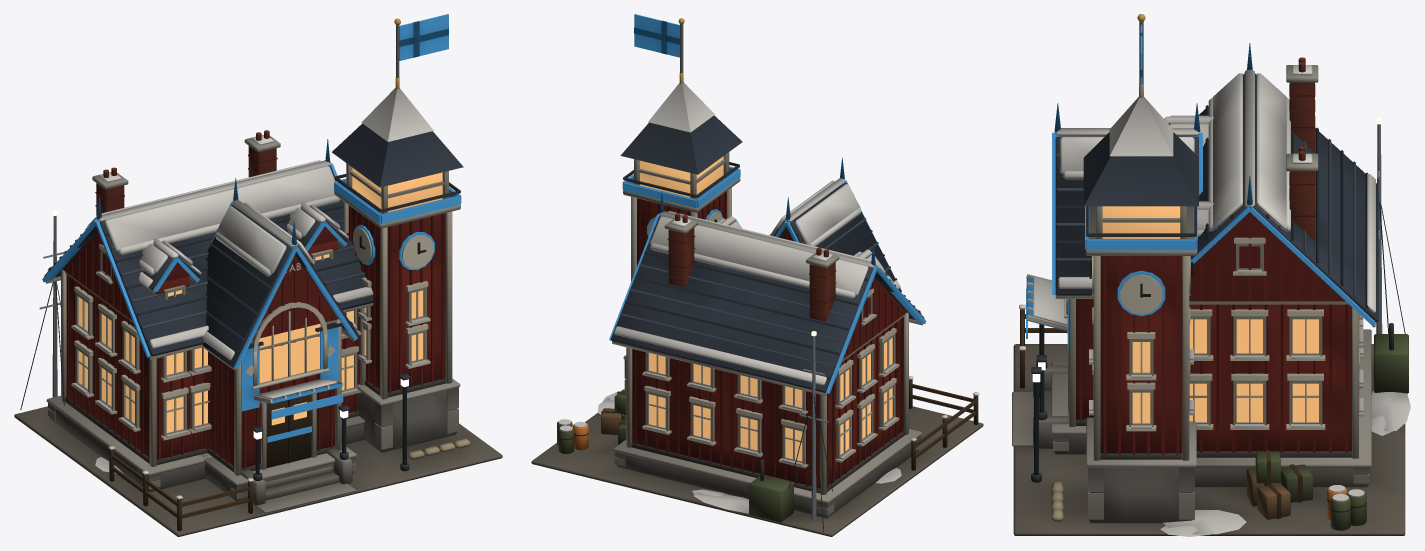
3 renders of one model, left to right at view 1: azimuth 30°, elevation 25°; view 2: azimuth 150°, elevation 25°; view 3: azimuth 270°, elevation 25°, orthographic. The views are drawn at different scales.
Parts seen in each view (by area): view 1: hq_root_matte, hq_root_trim, hq_root_glass, hq_root_metal, flag; view 2: hq_root_matte, hq_root_glass, hq_root_trim, hq_root_metal, flag; view 3: hq_root_matte, hq_root_glass, hq_root_trim, hq_root_metal.
Part boxes in pixels (x1,y1,x2,y2): hq_root_matte: [14, 88, 502, 536]; hq_root_trim: [42, 139, 461, 442]; hq_root_glass: [78, 167, 442, 432]; hq_root_metal: [20, 18, 460, 480]; flag: [399, 14, 448, 60]; hq_root_matte: [531, 82, 983, 536]; hq_root_glass: [640, 156, 892, 461]; hq_root_trim: [609, 157, 926, 393]; hq_root_metal: [623, 18, 832, 531]; flag: [634, 14, 679, 57]; hq_root_matte: [1012, 57, 1410, 536]; hq_root_glass: [1102, 206, 1318, 423]; hq_root_trim: [1026, 43, 1375, 348]; hq_root_metal: [1031, 14, 1405, 482].
Size of the model in its own units: 13.17 by 15.54 by 11.41.
